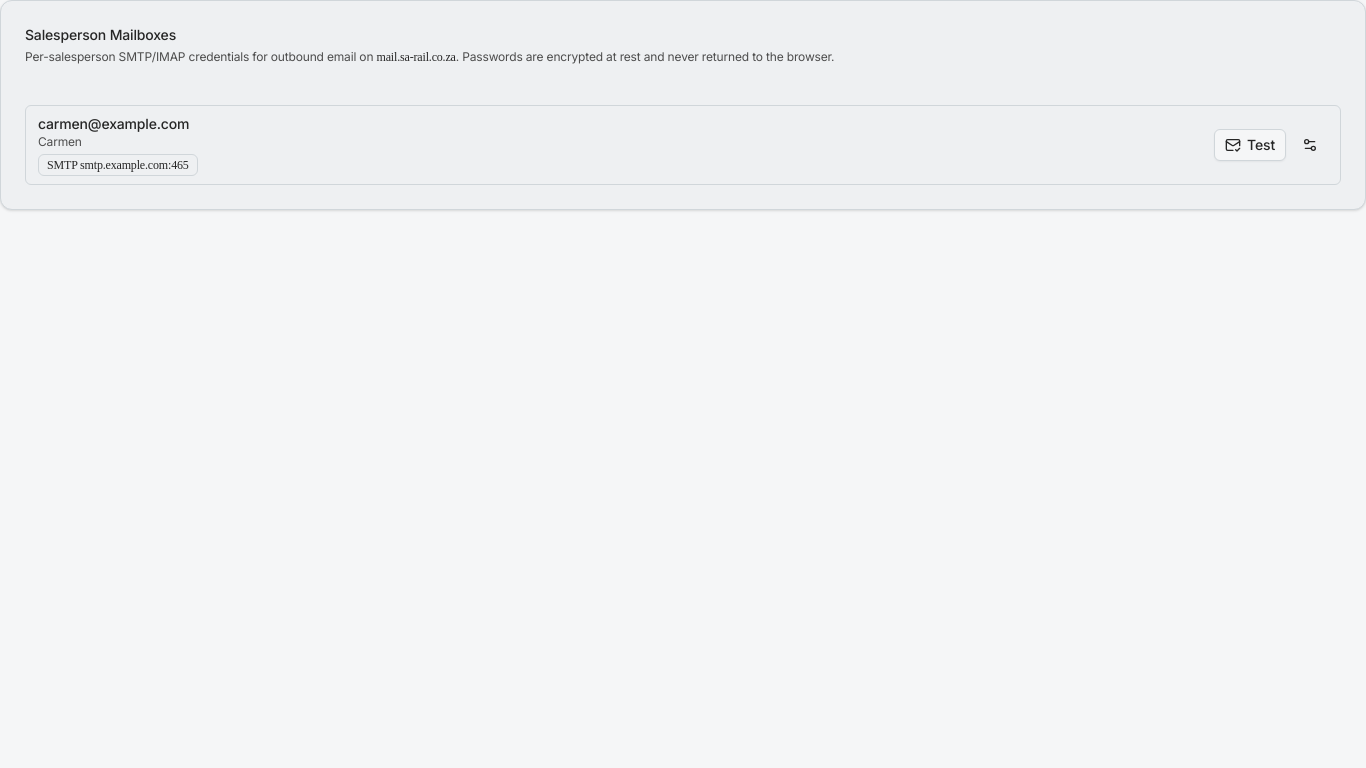
Scenario: SalespersonCredentialsSettings › sends a consultant's edit as signature fields only, and shows the mailbox read-only
This screenshot has width=1366, height=768.
Later steps or results of the test are not shown.
Step 1. Click the button named "Edit mailbox" → coordinates (1310, 145), box top-left (1292, 127), bottom-right (1328, 163)
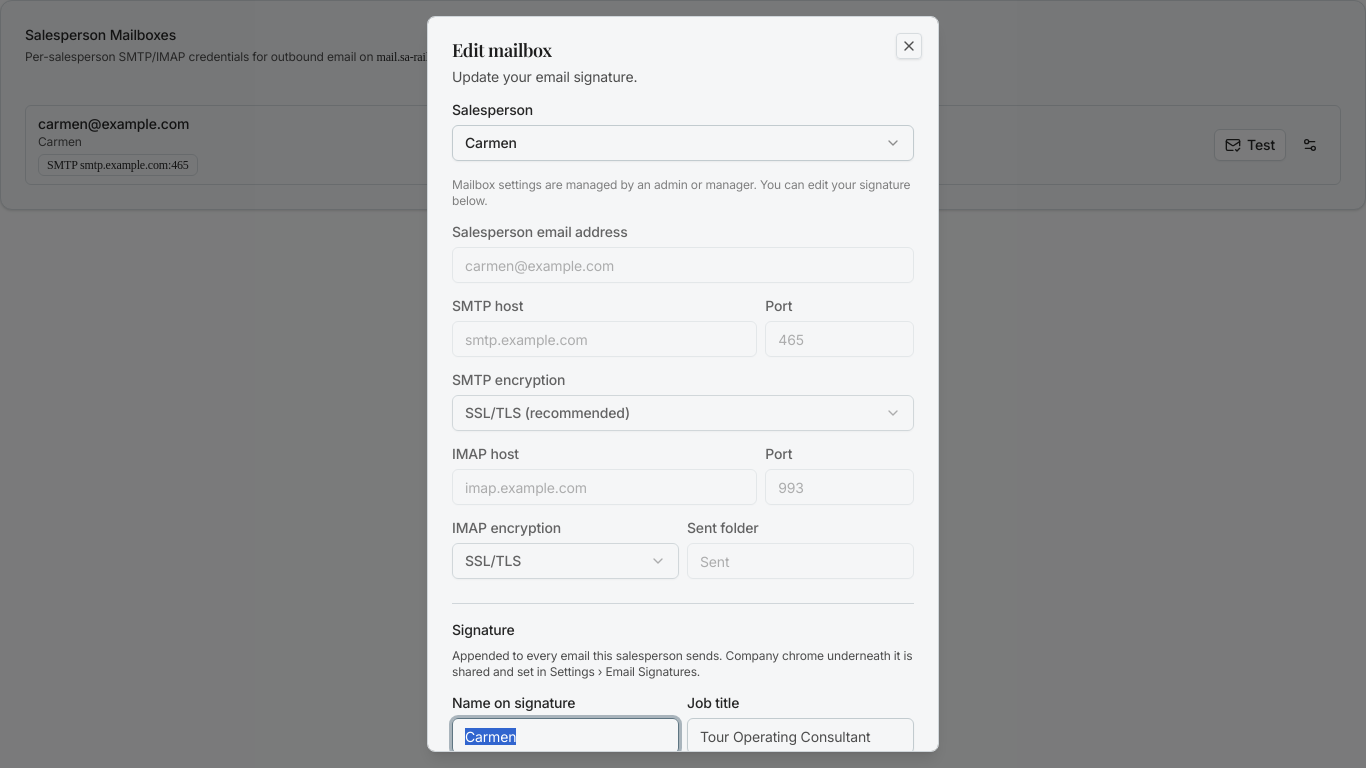
Now the field labelled "SMTP host" is disabled, box top-left (452, 321), bottom-right (757, 357)
Now the field labelled "IMAP host" is disabled, box top-left (452, 469), bottom-right (757, 505)
